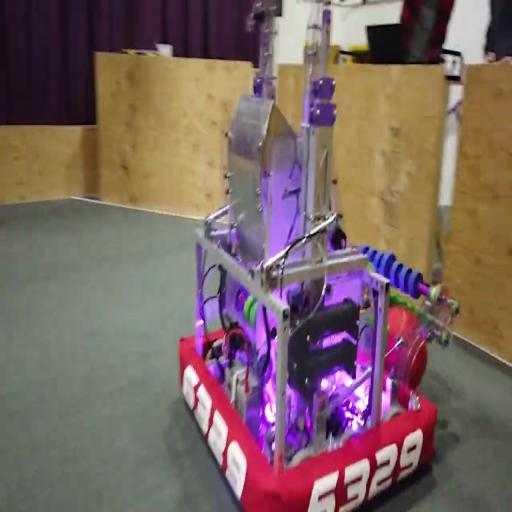robot: (174, 2, 458, 496)
